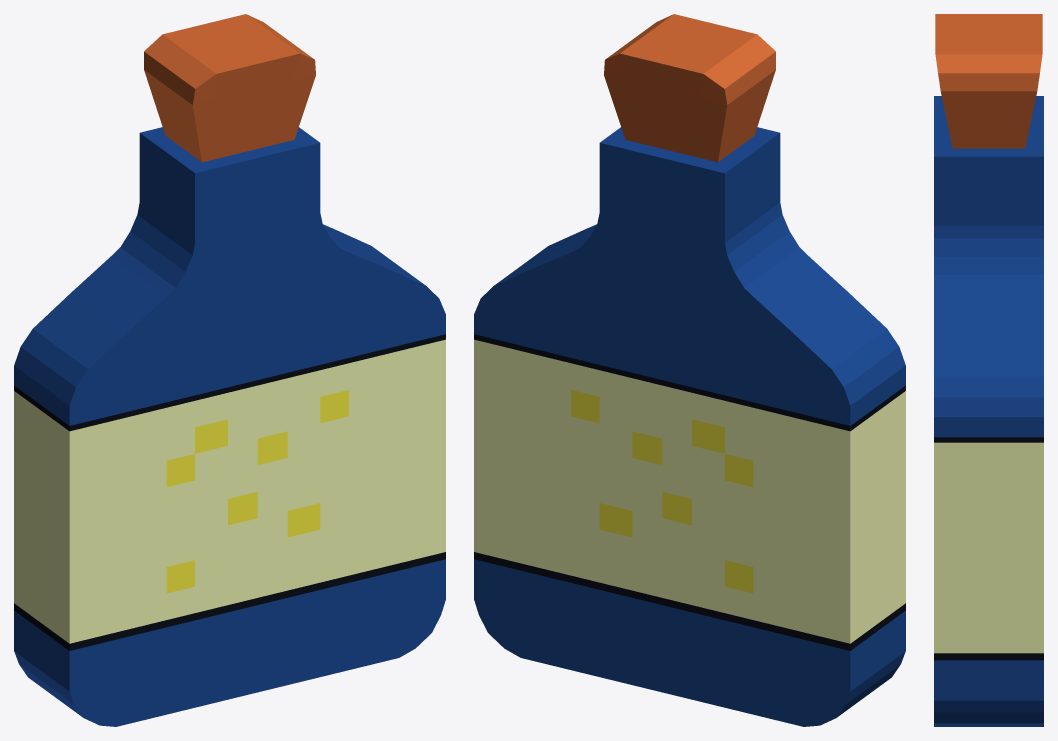
The model's file is InvisibilityPotion.fbx.
3 views of the same model, side by side, from view 1: azimuth 30°, elevation 25°; view 2: azimuth 150°, elevation 25°; view 3: azimuth 270°, elevation 25° (orthographic).
Parts seen in each view (by area): view 1: Cube; view 2: Cube; view 3: Cube.
Boxes of the visible parts, x1=… form: Cube: x1=14, y1=14, x2=445, y2=726; Cube: x1=474, y1=14, x2=905, y2=726; Cube: x1=934, y1=14, x2=1043, y2=726.
Size of the model in its own units: 837 by 1335 by 214.
